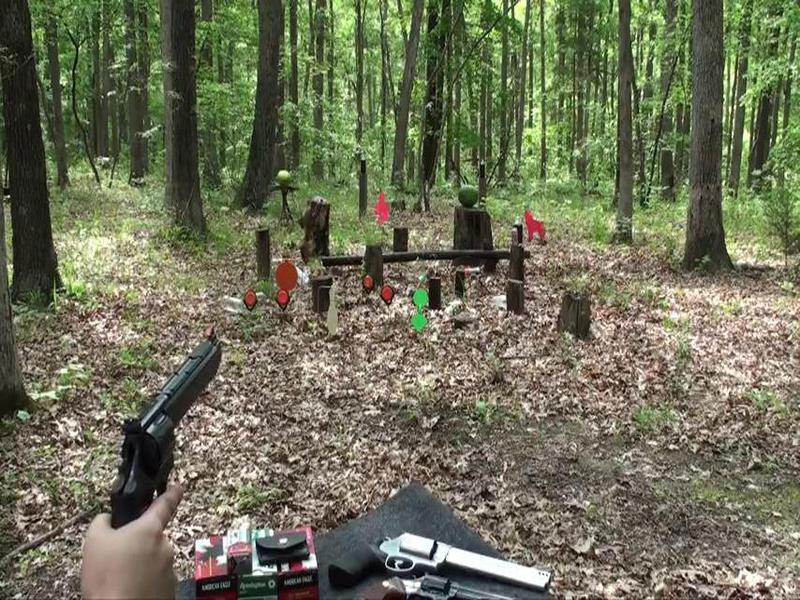Revolver: (101, 321, 235, 541)
